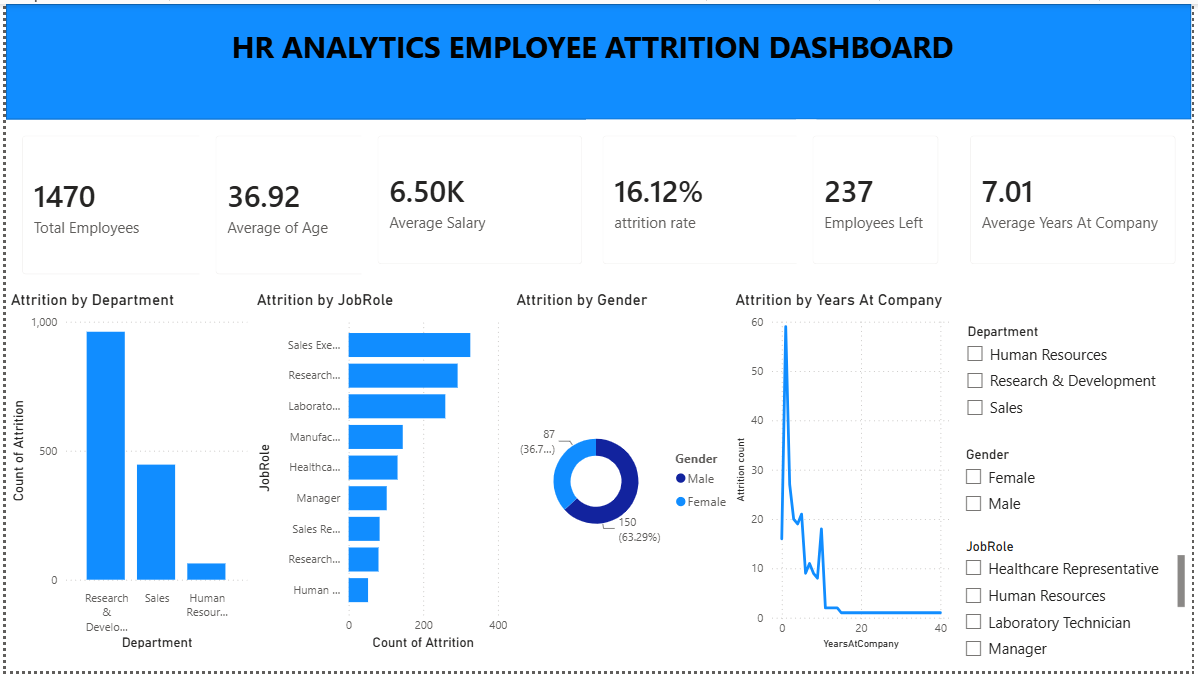

Layout of this report page (visuals, bound fields, positions):
{"tool":"powerbi","page":{"name":"Page 1","canvas":[1280,720],"ordinal":0},"visuals":[{"type":"cardVisual","fields":{"Data":["Sum(WA_Fn-UseC_-HR-Employee-Attriti.EmployeeCount)"]},"box":[0,124.7,288.2,184.6],"z":0},{"type":"cardVisual","fields":{"Data":["Avg(WA_Fn-UseC_-HR-Employee-Attriti.Age)"]},"box":[278.5,124.7,254.2,184.6],"z":1000},{"type":"cardVisual","fields":{"Data":["Avg(WA_Fn-UseC_-HR-Employee-Attriti.MonthlyIncome)"]},"box":[519.8,124.7,255.8,173.3],"z":2000},{"type":"clusteredColumnChart","title":" Attrition by Department","fields":{"Category":["WA_Fn-UseC_-HR-Employee-Attriti.Department"],"Y":["CountNonNull(WA_Fn-UseC_-HR-Employee-Attriti.Attrition)"]},"box":[14.6,309.3,320.6,391.9],"z":3000},{"type":"slicer","fields":{"Values":["WA_Fn-UseC_-HR-Employee-Attriti.Department"]},"box":[1024.3,138,255.1,185.2],"z":4000},{"type":"slicer","fields":{"Values":["WA_Fn-UseC_-HR-Employee-Attriti.Gender"]},"box":[1024.3,266.5,255.1,149.3],"z":5000},{"type":"slicer","fields":{"Values":["WA_Fn-UseC_-HR-Employee-Attriti.JobRole"]},"box":[1024.3,376.1,255.1,149.3],"z":6000},{"type":"slicer","fields":{"Values":["WA_Fn-UseC_-HR-Employee-Attriti.EducationField"]},"box":[1024.3,534.8,255.1,185.2],"z":7000},{"type":"barChart","title":" Attrition by JobRole","fields":{"Category":["WA_Fn-UseC_-HR-Employee-Attriti.JobRole"],"Y":["CountNonNull(WA_Fn-UseC_-HR-Employee-Attriti.Attrition)"]},"box":[365.9,309.3,307.7,391.9],"z":8000},{"type":"pieChart","title":"EmployeeCount by Gender","fields":{"Category":["WA_Fn-UseC_-HR-Employee-Attriti.Gender"],"Y":["Sum(WA_Fn-UseC_-HR-Employee-Attriti.EmployeeCount)"]},"box":[714.1,297.9,278.5,403.2],"z":9000},{"type":"textbox","box":[0,0,1279.4,124.7],"z":10000},{"type":"shape","box":[0,0,1279.4,124.7],"z":11000},{"type":"textbox","box":[0,0,1279.2,124.7],"z":12000}]}

Visuals, with their boxes in screenshot pixels (x1, y1, x2, y2), scaled from the page's 1280x720 canvas onto the 1198x675 screenshot:
cardVisual - Sum(WA_Fn-UseC_-HR-Employee-Attriti.EmployeeCount): select_region(0, 117, 270, 290)
cardVisual - Avg(WA_Fn-UseC_-HR-Employee-Attriti.Age): select_region(261, 117, 499, 290)
cardVisual - Avg(WA_Fn-UseC_-HR-Employee-Attriti.MonthlyIncome): select_region(487, 117, 726, 279)
" Attrition by Department" clusteredColumnChart: select_region(14, 290, 314, 657)
slicer - WA_Fn-UseC_-HR-Employee-Attriti.Department: select_region(959, 129, 1197, 303)
slicer - WA_Fn-UseC_-HR-Employee-Attriti.Gender: select_region(959, 250, 1197, 390)
slicer - WA_Fn-UseC_-HR-Employee-Attriti.JobRole: select_region(959, 353, 1197, 493)
slicer - WA_Fn-UseC_-HR-Employee-Attriti.EducationField: select_region(959, 501, 1197, 674)
" Attrition by JobRole" barChart: select_region(342, 290, 630, 657)
"EmployeeCount by Gender" pieChart: select_region(668, 279, 929, 657)
textbox: select_region(0, 0, 1197, 117)
shape: select_region(0, 0, 1197, 117)
textbox: select_region(0, 0, 1197, 117)
